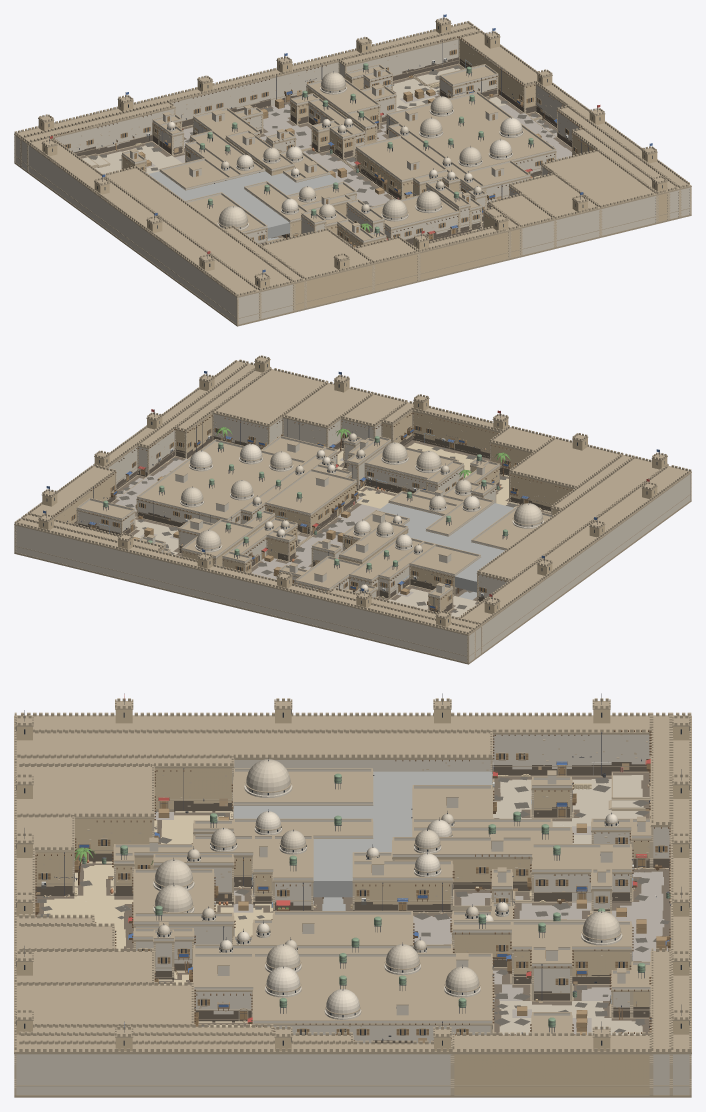
Rendered from dunehold.glb.
The picture shows the model from 3 angles, top to bottom: view 1: azimuth 30°, elevation 25°; view 2: azimuth 150°, elevation 25°; view 3: azimuth 270°, elevation 25°; orthographic projection. The views are drawn at different scales.
Visible parts, largest first — view 1: trim, plaster, sandstone, tiles, stone, concrete, paving, grime, wood, decal, darkwood, dirt (+4 smaller); view 2: trim, plaster, sandstone, tiles, concrete, grime, stone, paving, wood, darkwood, sand, dirt (+5 smaller); view 3: trim, plaster, sandstone, tiles, concrete, grime, paving, dirt, sand, stone, wood, darkwood (+6 smaller).
Part boxes in pixels (x1,y1,x2,y2): trim: (14, 17, 691, 326); plaster: (15, 39, 690, 324); sandstone: (38, 22, 667, 310); tiles: (82, 68, 505, 227); stone: (14, 40, 691, 324); concrete: (148, 171, 340, 243); paving: (145, 92, 571, 205); grime: (71, 57, 571, 245); wood: (64, 49, 578, 246); decal: (89, 60, 568, 241); darkwood: (52, 36, 592, 244); dirt: (79, 64, 571, 242); trim: (14, 355, 691, 664); plaster: (15, 413, 690, 662); sandstone: (38, 360, 667, 628); tiles: (133, 433, 542, 618); concrete: (378, 503, 513, 599); grime: (72, 433, 550, 613); stone: (14, 411, 691, 662); paving: (115, 457, 413, 601); wood: (71, 425, 528, 608); darkwood: (53, 413, 571, 617); sand: (337, 443, 550, 512); dirt: (112, 440, 550, 613); trim: (14, 698, 691, 1097); plaster: (15, 734, 690, 1094); sandstone: (16, 709, 689, 1094); tiles: (155, 759, 649, 1034); concrete: (233, 771, 492, 910); grime: (35, 762, 670, 1043); paving: (154, 812, 667, 1034); dirt: (35, 772, 670, 1034); sand: (44, 811, 273, 1026); stone: (14, 734, 691, 1095); wood: (35, 753, 670, 1035); darkwood: (35, 730, 670, 1040).
Size of the model in its own units: 160 by 16.01 by 136.
